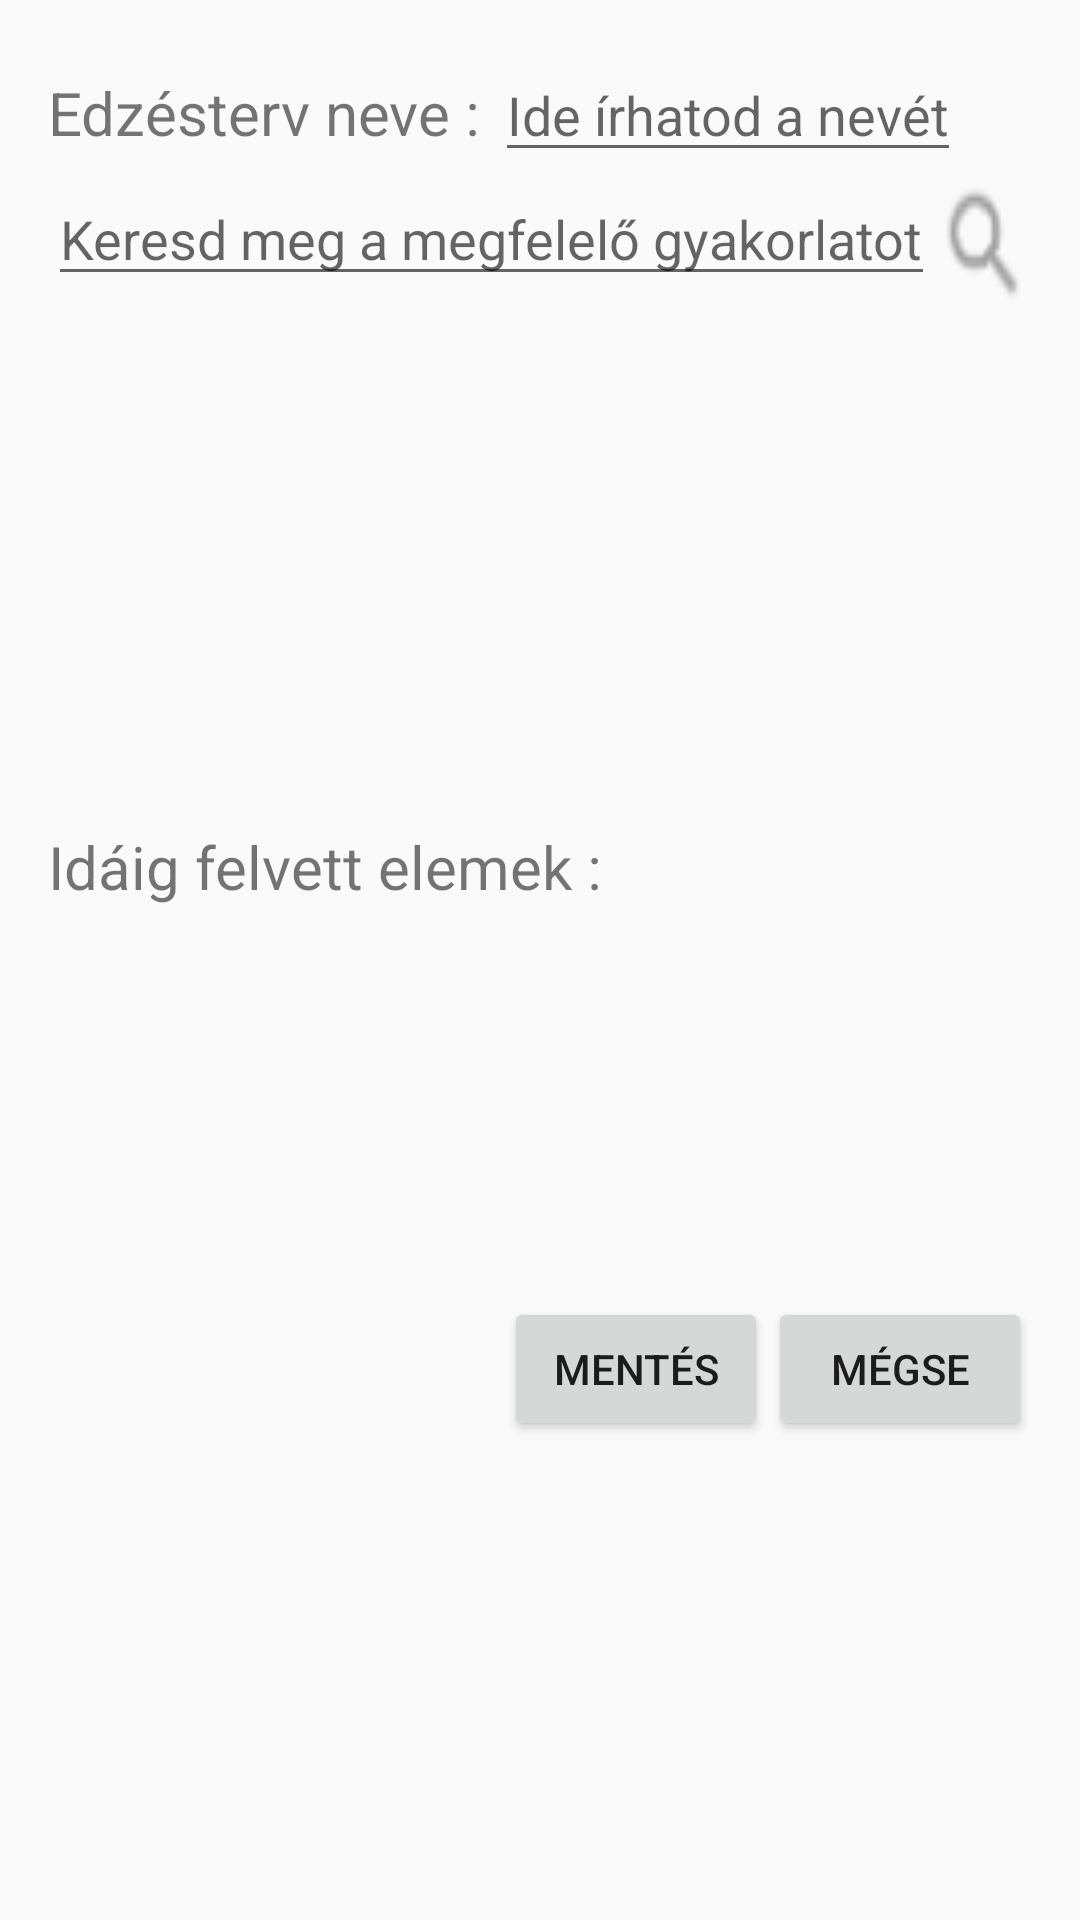

Screen size 1080*1920. Icon name, then its center in pixels as [x,y]:
search: [983,243]
